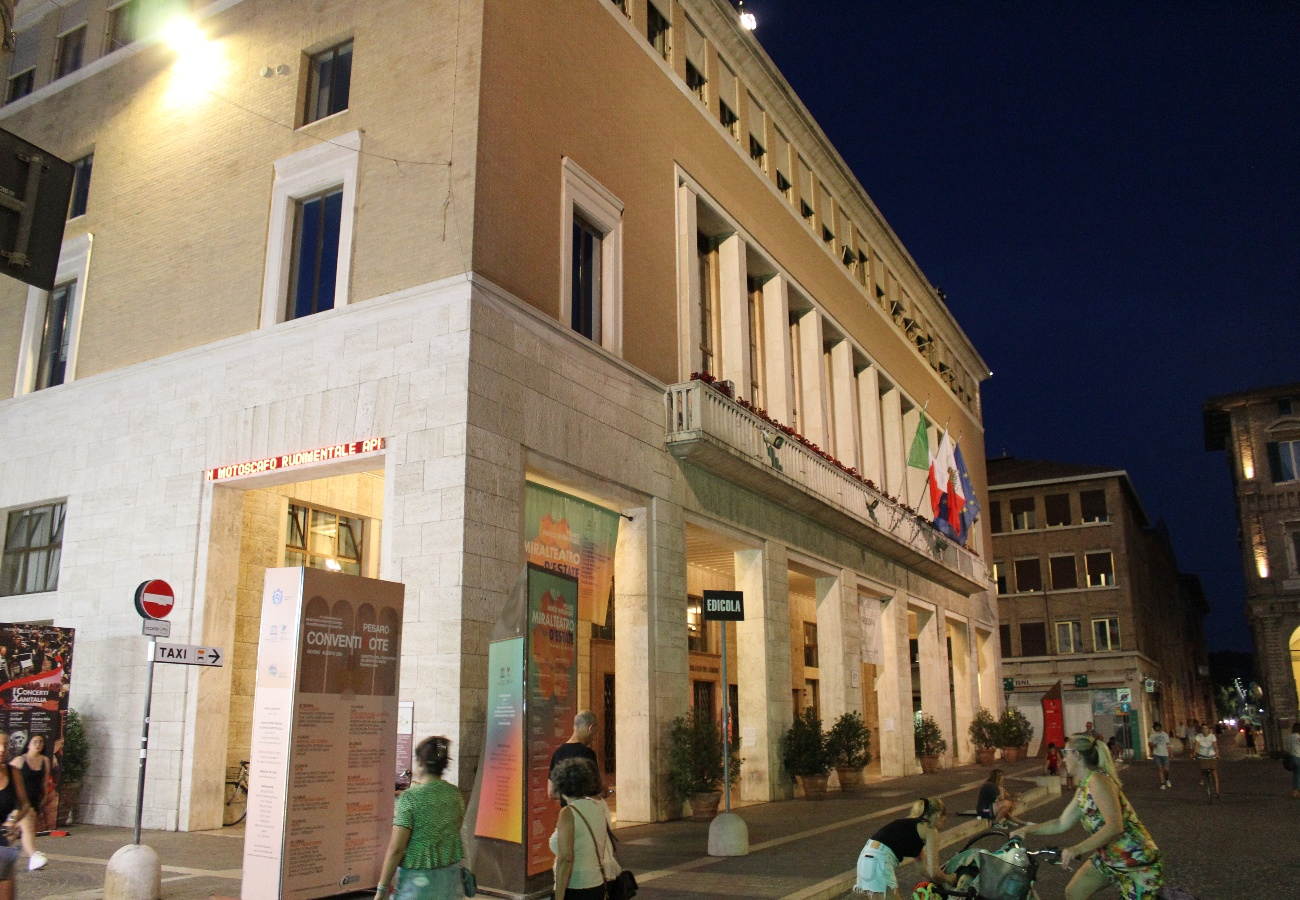Palazzo Comunale: (464, 1, 1005, 824)
